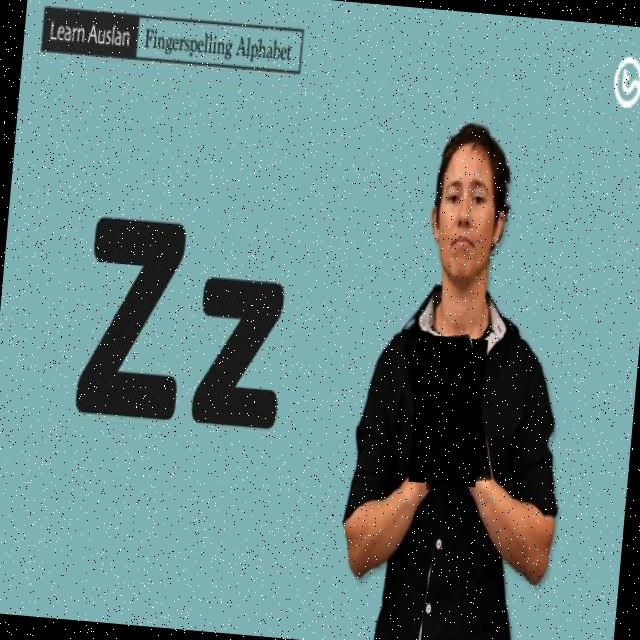Z: (401, 333, 498, 494)
